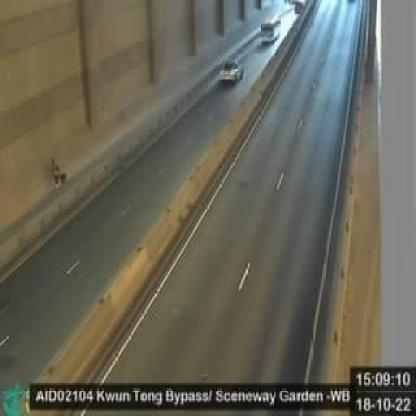Bus: (259, 16, 281, 46)
Car: (221, 59, 245, 85)
